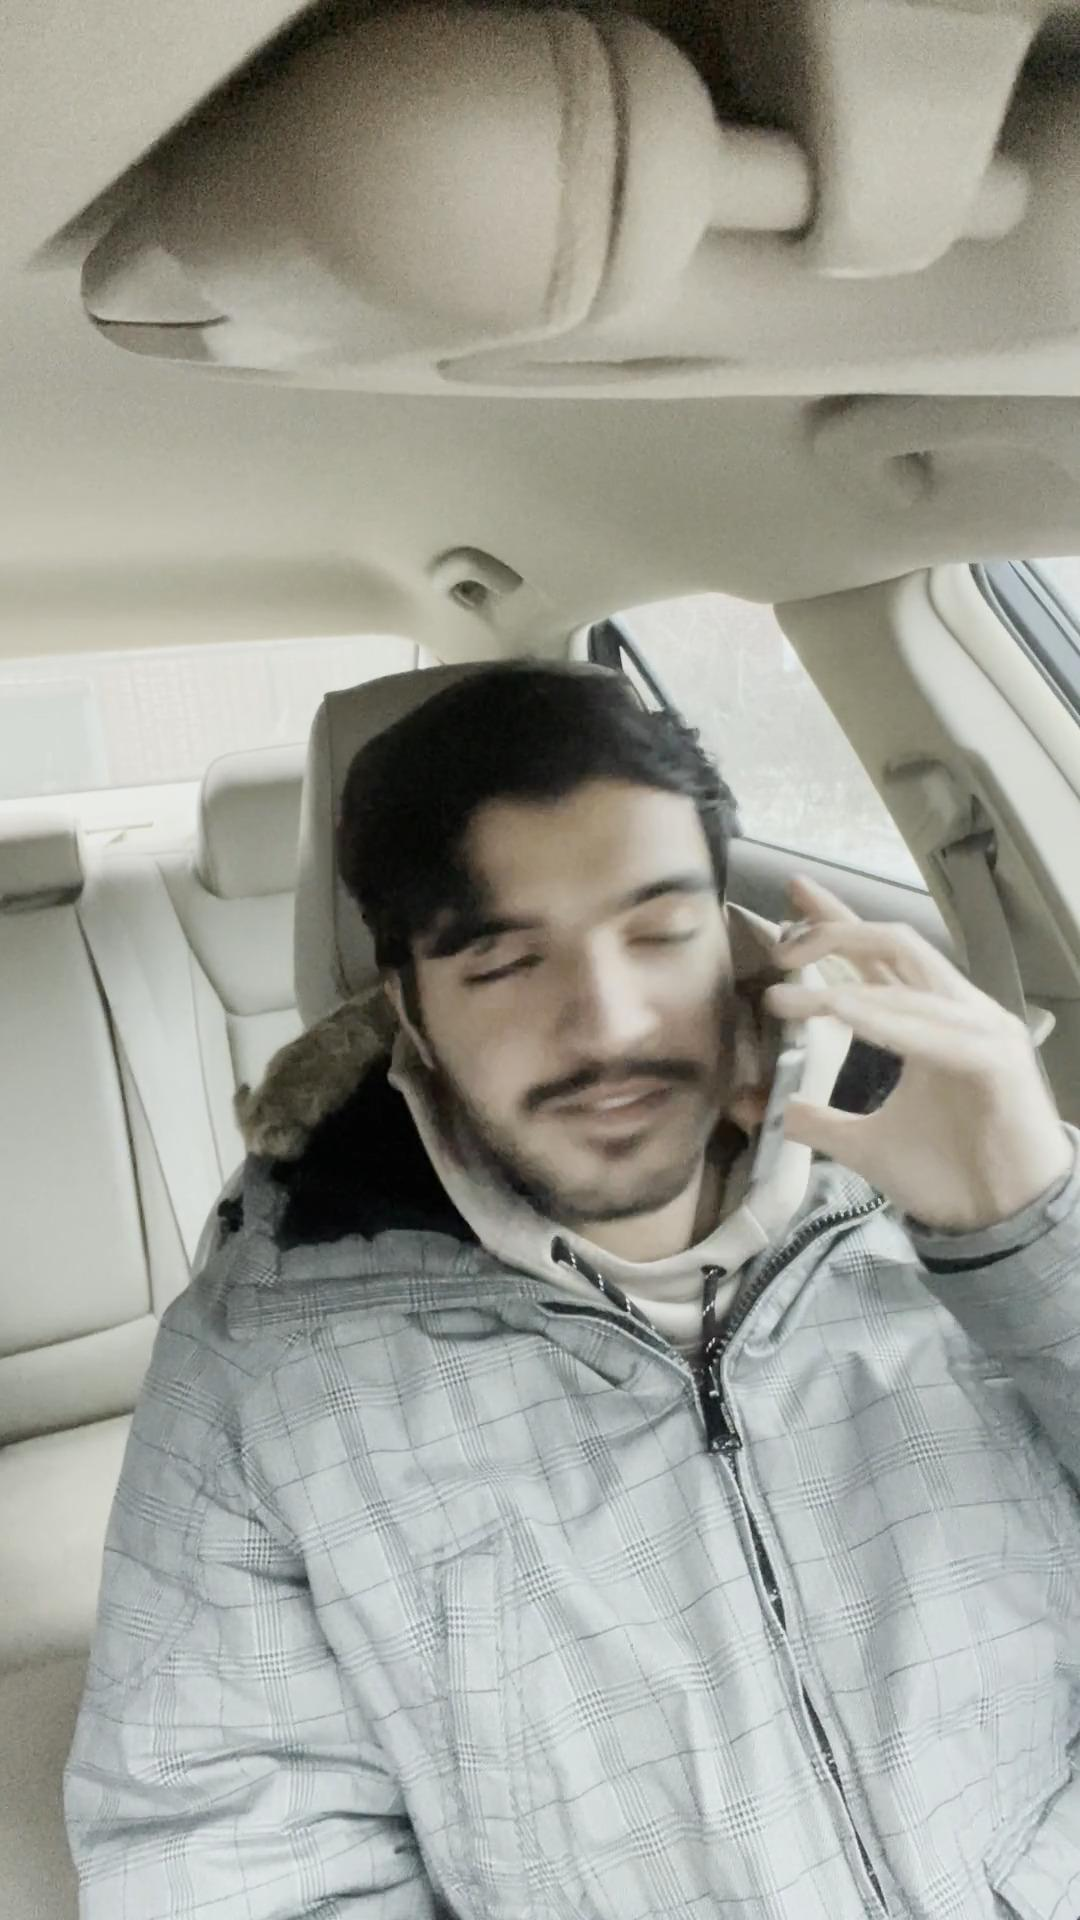mobile: (684, 905, 845, 1250)
no_seatbelt: (393, 1230, 1080, 1920)
